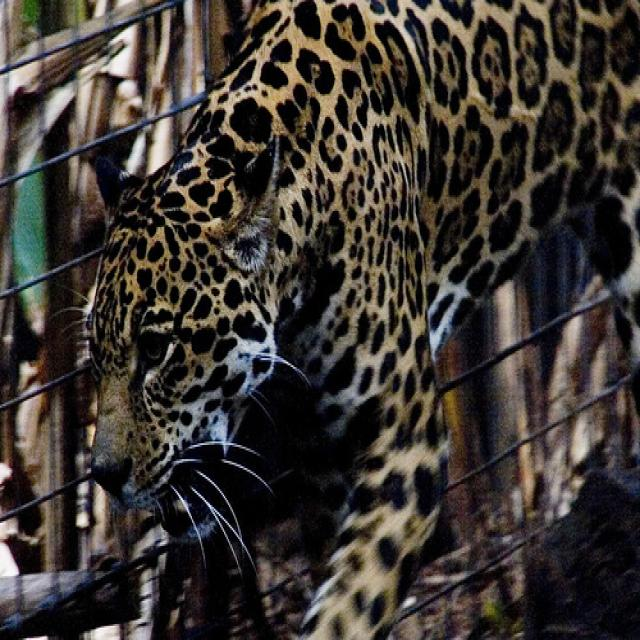Leopard: (48, 0, 637, 636)
